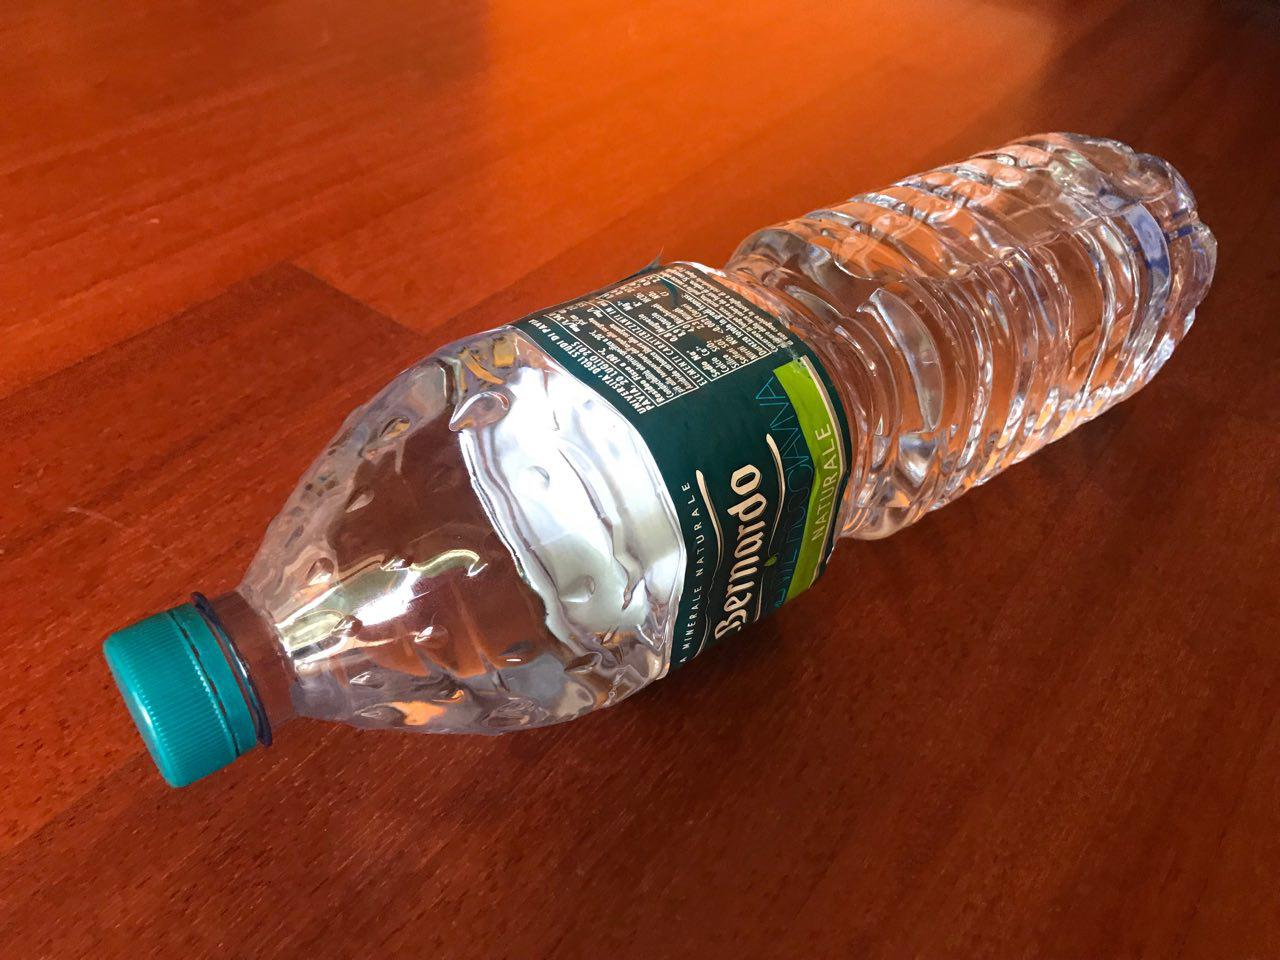san_bernardo: (99, 128, 1220, 790)
